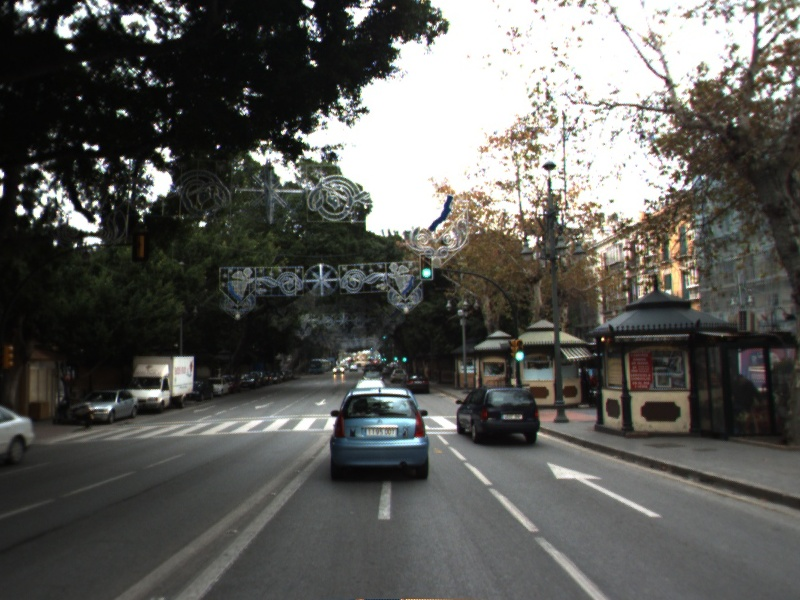STRAIGHT: (545, 461, 664, 520)
